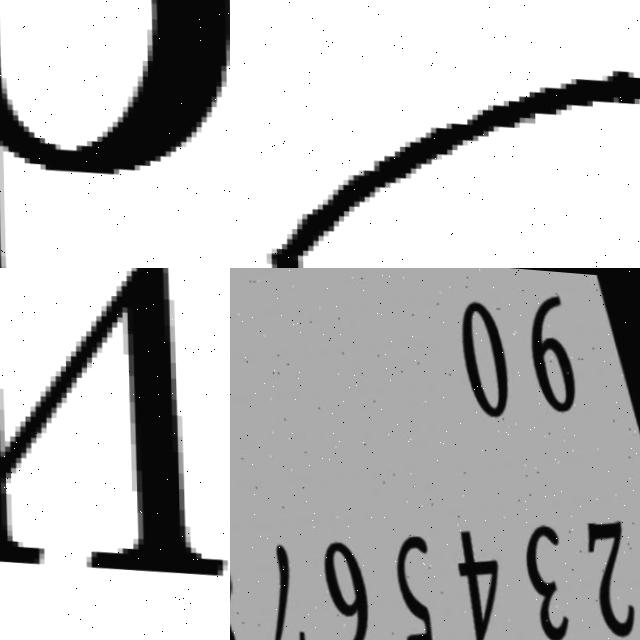0: (440, 272, 525, 429)
2: (567, 483, 640, 640)
3: (508, 505, 587, 640)
4: (435, 504, 523, 640)
5: (362, 506, 460, 640)
6: (298, 510, 392, 640)
7: (232, 511, 322, 640)
8: (230, 513, 262, 640)
9: (509, 269, 602, 425)
D: (0, 0, 230, 268)
W: (0, 268, 230, 600)
